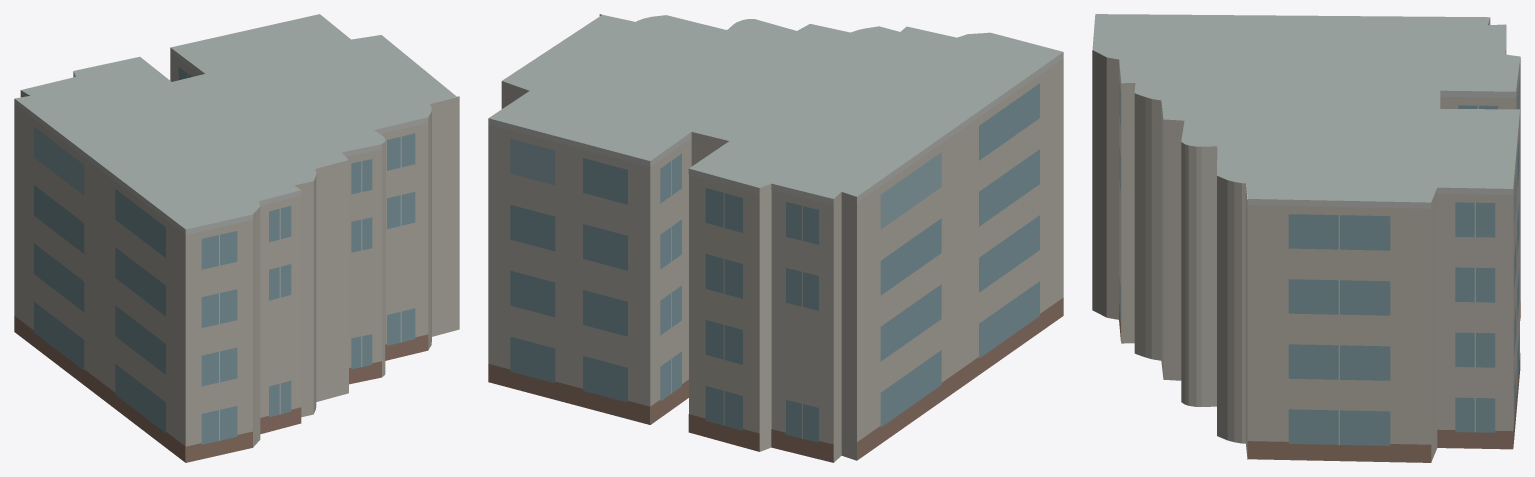
The model's file is survey-upis-32813398.glb.
3 views of the same model, side by side, from view 1: azimuth 30°, elevation 25°; view 2: azimuth 150°, elevation 25°; view 3: azimuth 270°, elevation 25° (orthographic). The views are drawn at different scales.
Visible parts, largest first — view 1: survey-upis-32813398.tmp; view 2: survey-upis-32813398.tmp; view 3: survey-upis-32813398.tmp.
Part boxes in pixels (bbox=[...]): survey-upis-32813398.tmp: bbox=[14, 14, 459, 462]; survey-upis-32813398.tmp: bbox=[488, 14, 1063, 462]; survey-upis-32813398.tmp: bbox=[1092, 14, 1520, 462].
Bounding box in the file's own units: 16.16 × 10.4 × 15.51.
